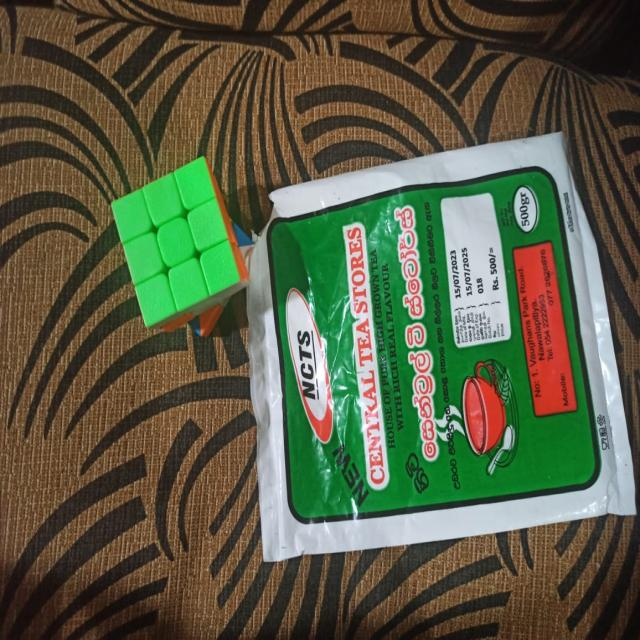Central Tea: (253, 186, 640, 559)
